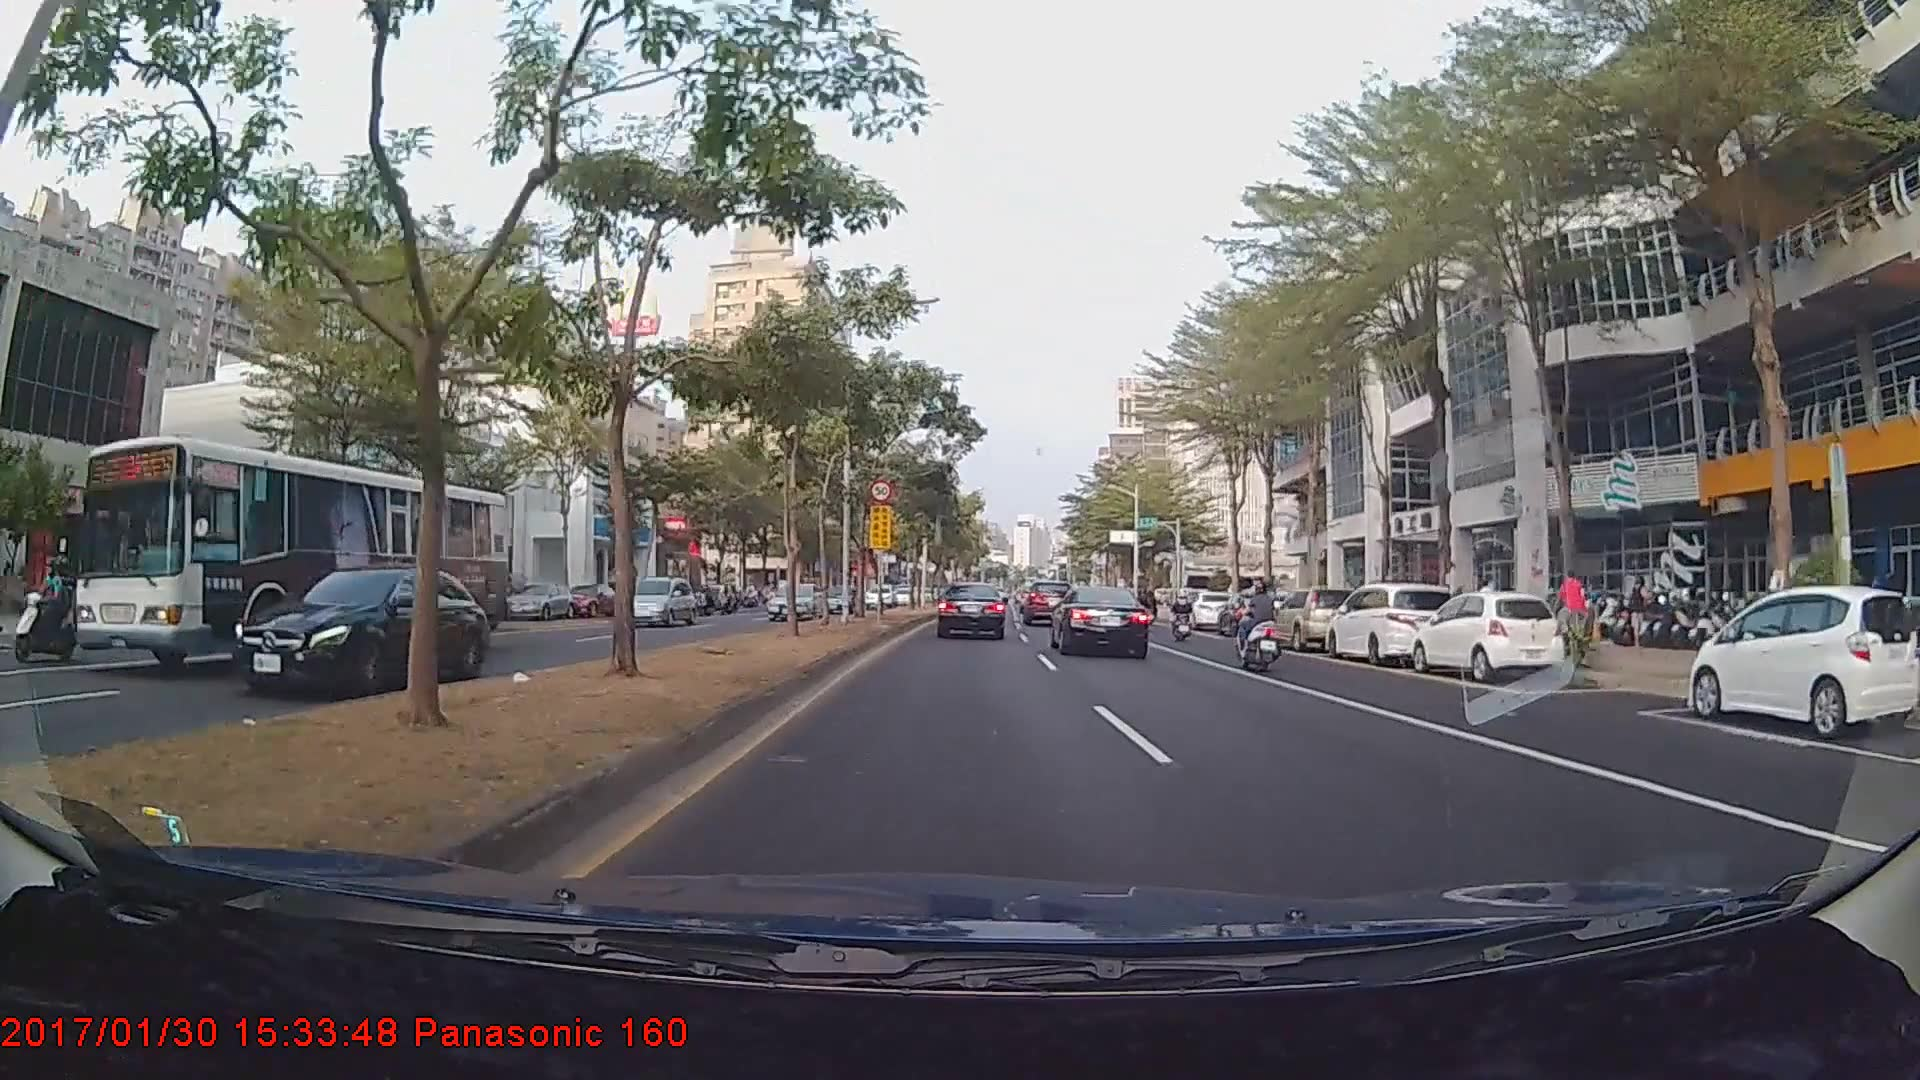rider: (1229, 582, 1296, 673), (1547, 566, 1599, 660), (1167, 587, 1197, 644)
vehicle: (73, 432, 509, 674), (1689, 583, 1920, 736), (231, 564, 492, 697), (1413, 590, 1560, 681), (1329, 582, 1456, 670), (1052, 583, 1151, 658), (1267, 587, 1363, 653), (936, 581, 1007, 640), (617, 574, 694, 625), (1181, 590, 1236, 630), (1022, 582, 1071, 627), (768, 582, 823, 619)
